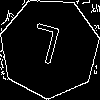L: (24, 23, 63, 74)
